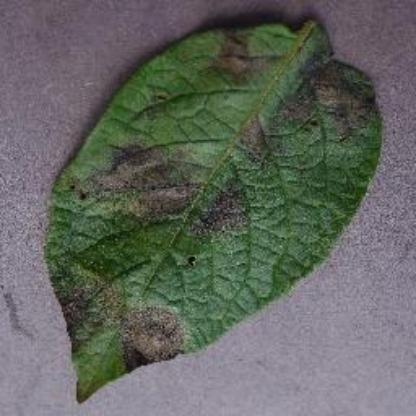Late-Blight: (29, 10, 390, 406)
